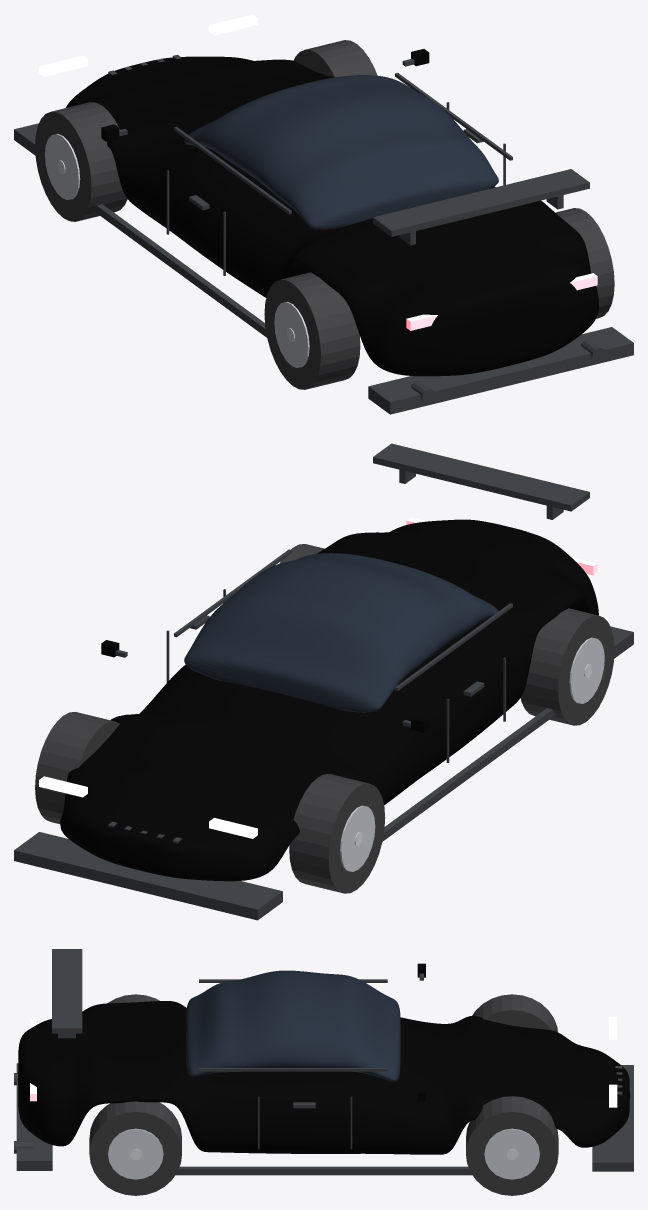
The model's file is velara-gt.glb.
3 views of the same model, one above another, from view 1: azimuth 30°, elevation 25°; view 2: azimuth 150°, elevation 25°; view 3: azimuth 270°, elevation 25° (orthographic). The views are drawn at different scales.
Parts seen in each view (by area): view 1: Body, Glass, Trim, WheelRL, WheelFL, WheelRR, WheelFR, LightFront, LightRear; view 2: Body, Glass, Trim, WheelFL, WheelRL, WheelFR, LightFront; view 3: Body, Glass, Trim, WheelFR, WheelRR, WheelFL, LightFront.
Part boxes in pixels (box(x1,y1,x2,y2)): Body: box(66, 56, 598, 376); Glass: box(184, 75, 498, 229); Trim: box(14, 49, 633, 414); WheelRL: box(264, 272, 360, 389); WheelFL: box(35, 102, 127, 221); WheelRR: box(555, 208, 614, 318); WheelFR: box(293, 40, 377, 77); LightFront: box(39, 14, 257, 76); LightRear: box(406, 273, 597, 330); Body: box(60, 519, 598, 881); Glass: box(184, 553, 498, 712); Trim: box(14, 443, 633, 920); WheelFL: box(289, 774, 385, 893); WheelRL: box(520, 608, 614, 725); WheelFR: box(35, 712, 119, 823); LightFront: box(39, 776, 257, 838); Body: box(18, 1001, 629, 1154); Glass: box(186, 970, 400, 1081); Trim: box(14, 949, 633, 1175); WheelFR: box(466, 1096, 558, 1195); WheelRR: box(89, 1101, 181, 1195); WheelFL: box(472, 994, 557, 1032); LightFront: box(609, 1016, 617, 1107).
Size of the model in its own units: 2.21 by 1.18 by 4.48.
6 materials, 1 textured.
